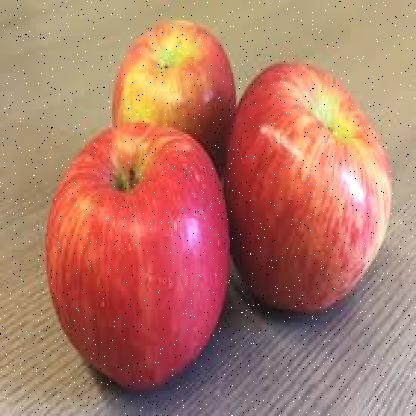apple: (54, 127, 219, 382), (230, 75, 393, 307), (115, 23, 239, 182)
